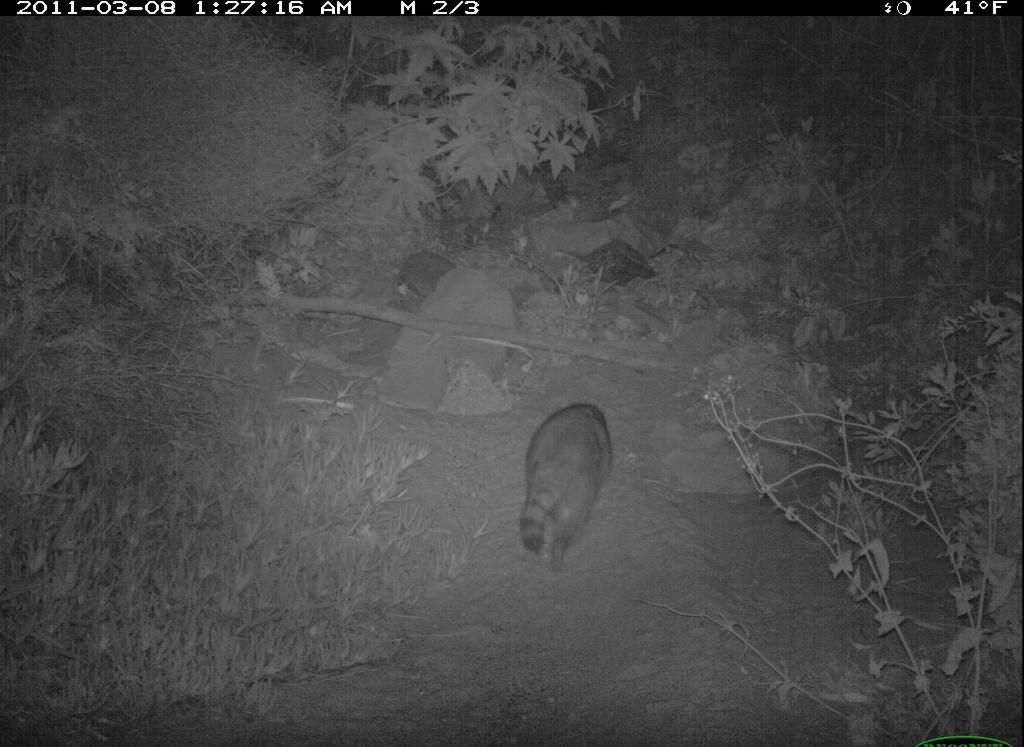raccoon: (516, 395, 623, 574)
